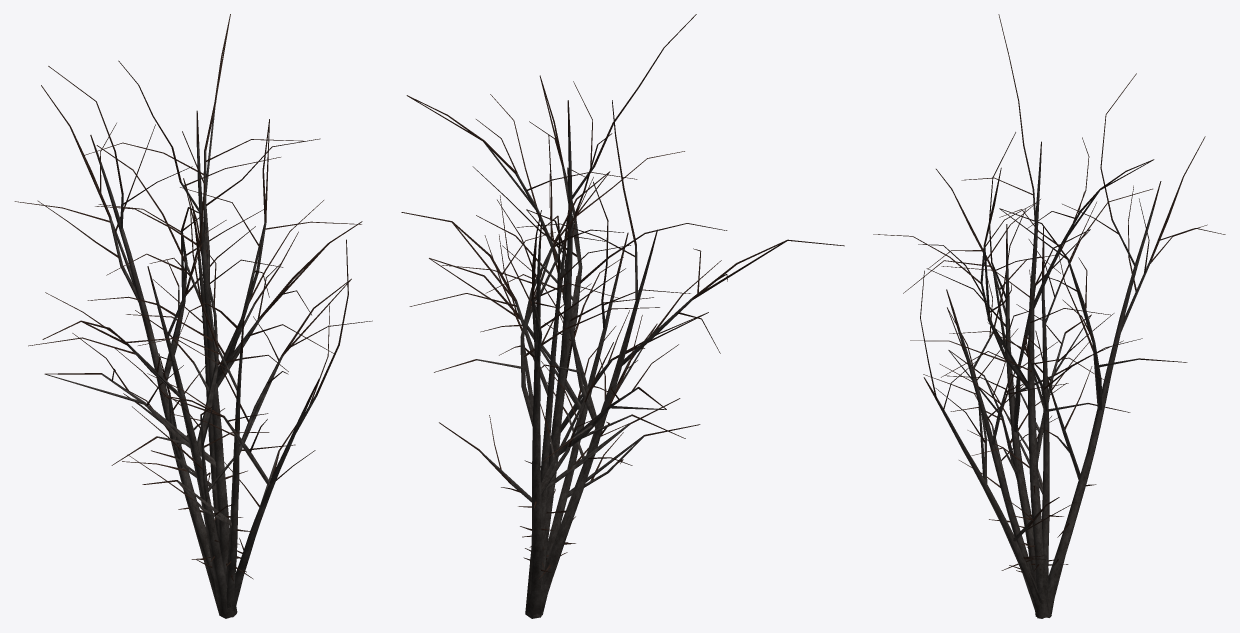
File: cherry_wood.glb
3 views of the same model, side by side, from view 1: azimuth 30°, elevation 25°; view 2: azimuth 150°, elevation 25°; view 3: azimuth 270°, elevation 25° (orthographic). The views are drawn at different scales.
Parts seen in each view (by area): view 1: cherry_a, cherry_b, cherry_a_l1, cherry_b_l1, cherry_a_l2; view 2: cherry_a, cherry_b, cherry_a_l1, cherry_b_l1, cherry_a_l2; view 3: cherry_a, cherry_b, cherry_a_l1, cherry_b_l1, cherry_a_l2, cherry_b_l2.
Part boxes in pixels (bbox=[...]): cherry_a: bbox=[14, 14, 361, 618]; cherry_b: bbox=[96, 145, 372, 617]; cherry_a_l1: bbox=[41, 14, 269, 615]; cherry_b_l1: bbox=[143, 212, 361, 610]; cherry_a_l2: bbox=[105, 110, 236, 614]; cherry_a: bbox=[407, 14, 844, 618]; cherry_b: bbox=[401, 135, 708, 581]; cherry_a_l1: bbox=[407, 79, 844, 617]; cherry_b_l1: bbox=[405, 200, 708, 567]; cherry_a_l2: bbox=[525, 109, 631, 616]; cherry_a: bbox=[873, 14, 1225, 617]; cherry_b: bbox=[920, 188, 1152, 618]; cherry_a_l1: bbox=[938, 139, 1203, 617]; cherry_b_l1: bbox=[926, 227, 1059, 571]; cherry_a_l2: bbox=[1005, 141, 1122, 617]; cherry_b_l2: bbox=[934, 226, 1048, 613].
Bounding box in the file's own units: 6.17 × 9.45 × 5.55.
2 materials, 2 textured.
